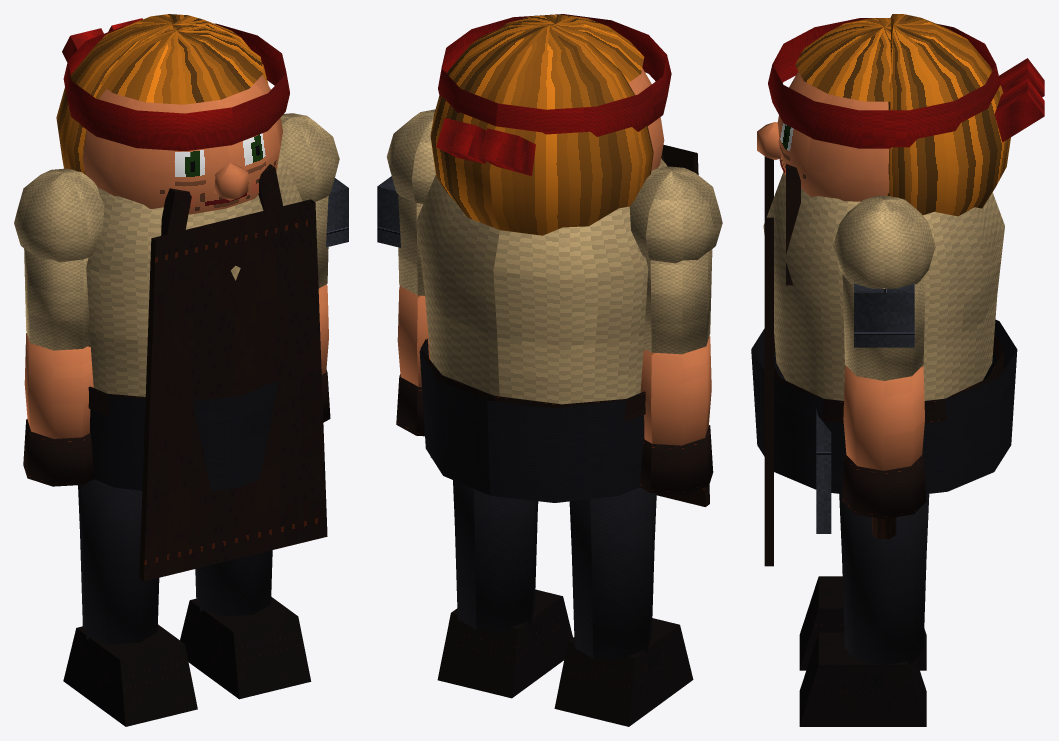
File: brunhild.glb
3 views of the same model, side by side, from view 1: azimuth 30°, elevation 25°; view 2: azimuth 150°, elevation 25°; view 3: azimuth 270°, elevation 25° (orthographic). The views are drawn at different scales.
Parts seen in each view (by area): view 1: apronF, torso, head, hips, leg-1, bandana, boot-1, hairTop, boot1, shoulderB-1, foreB-1, upperB-1 (+11 smaller); view 2: torso, hairB, hips, leg-1, leg1, bandana, boot-1, boot1, shoulderB-1, foreB-1, upperB-1, gloveB-1 (+11 smaller); view 3: torso, hairB, hips, leg1, bandana, boot1, shoulderB1, foreB1, head, hairTop, gloveB1, apronF (+10 smaller).
Part boxes in pixels (left/top/right/bottom): apronF: left=139, top=199, right=327, bottom=581; torso: left=86, top=151, right=302, bottom=396; head: left=82, top=75, right=282, bottom=214; hips: left=89, top=380, right=278, bottom=490; leg-1: left=78, top=479, right=159, bottom=644; bandana: left=63, top=23, right=289, bottom=151; boot-1: left=63, top=624, right=197, bottom=726; hairTop: left=99, top=26, right=263, bottom=104; boot1: left=180, top=597, right=311, bottom=699; shoulderB-1: left=14, top=168, right=104, bottom=262; foreB-1: left=24, top=333, right=93, bottom=438; upperB-1: left=24, top=248, right=90, bottom=350; torso: left=416, top=158, right=667, bottom=404; hairB: left=430, top=23, right=653, bottom=235; hips: left=419, top=338, right=644, bottom=502; leg-1: left=569, top=487, right=656, bottom=659; leg1: left=453, top=480, right=538, bottom=631; bandana: left=438, top=14, right=671, bottom=136; boot-1: left=554, top=618, right=693, bottom=726; boot1: left=437, top=589, right=572, bottom=698; shoulderB-1: left=629, top=166, right=722, bottom=263; foreB-1: left=640, top=336, right=711, bottom=445; upperB-1: left=643, top=249, right=712, bottom=354; gloveB-1: left=639, top=425, right=713, bottom=494; torso: left=763, top=172, right=1004, bottom=400; hairB: left=888, top=14, right=1010, bottom=216; hips: left=751, top=319, right=1017, bottom=493; leg1: left=839, top=494, right=929, bottom=667; bandana: left=768, top=18, right=1000, bottom=148; boot1: left=799, top=632, right=926, bottom=726; shoulderB1: left=833, top=196, right=935, bottom=288; foreB1: left=843, top=366, right=924, bottom=470; head: left=777, top=71, right=889, bottom=201; hairTop: left=795, top=18, right=891, bottom=101; gloveB1: left=842, top=454, right=926, bottom=519; apronF: left=764, top=156, right=773, bottom=566.
Size of the model in its own units: 1.21 by 2.39 by 0.9708.
10 materials, 10 textured.
